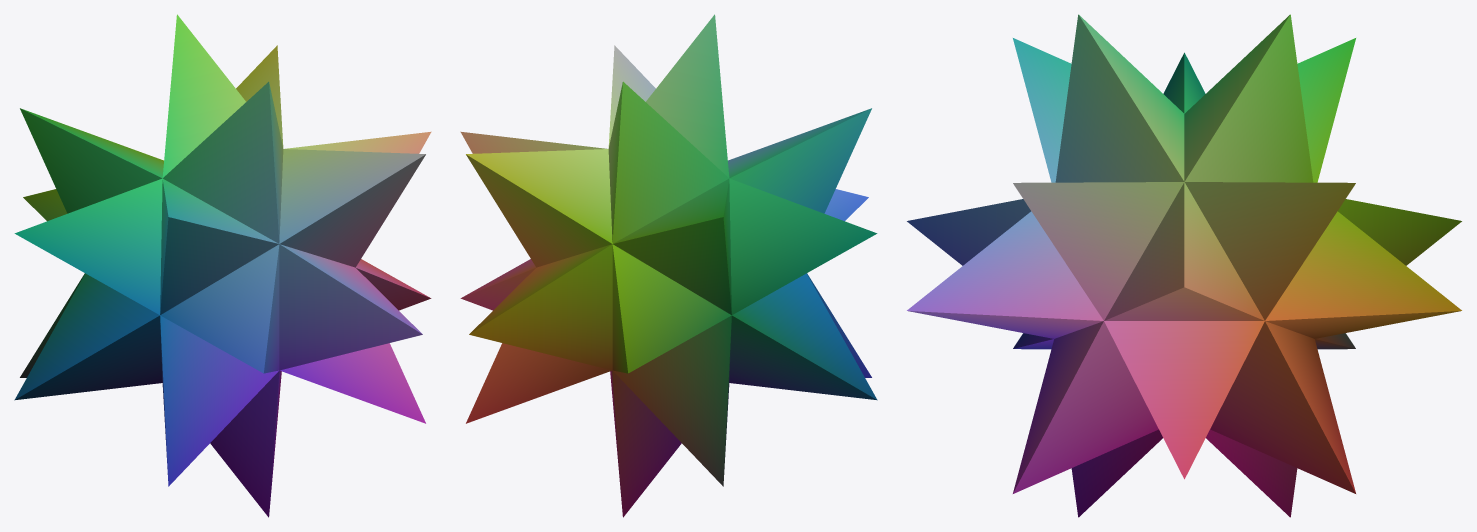
Rendered from zeometry-stars-spikes-stellated-dodecahedron_v1.glb.
3 renders of one model, left to right at view 1: azimuth 30°, elevation 25°; view 2: azimuth 150°, elevation 25°; view 3: azimuth 270°, elevation 25°, orthographic. The views are drawn at different scales.
Visible parts, largest first — view 1: Stellated Dodecahedron_v1; view 2: Stellated Dodecahedron_v1; view 3: Stellated Dodecahedron_v1.
Part boxes in pixels (x1=…): Stellated Dodecahedron_v1: x1=14, y1=14, x2=431, y2=517; Stellated Dodecahedron_v1: x1=460, y1=14, x2=877, y2=517; Stellated Dodecahedron_v1: x1=907, y1=14, x2=1461, y2=517.
Size of the model in its own units: 0.5 by 0.5 by 0.5.
